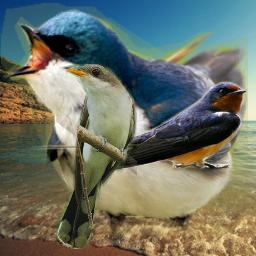Cuckoo: (56, 64, 137, 249)
Swallow: (1, 3, 248, 235), (29, 80, 248, 174)
